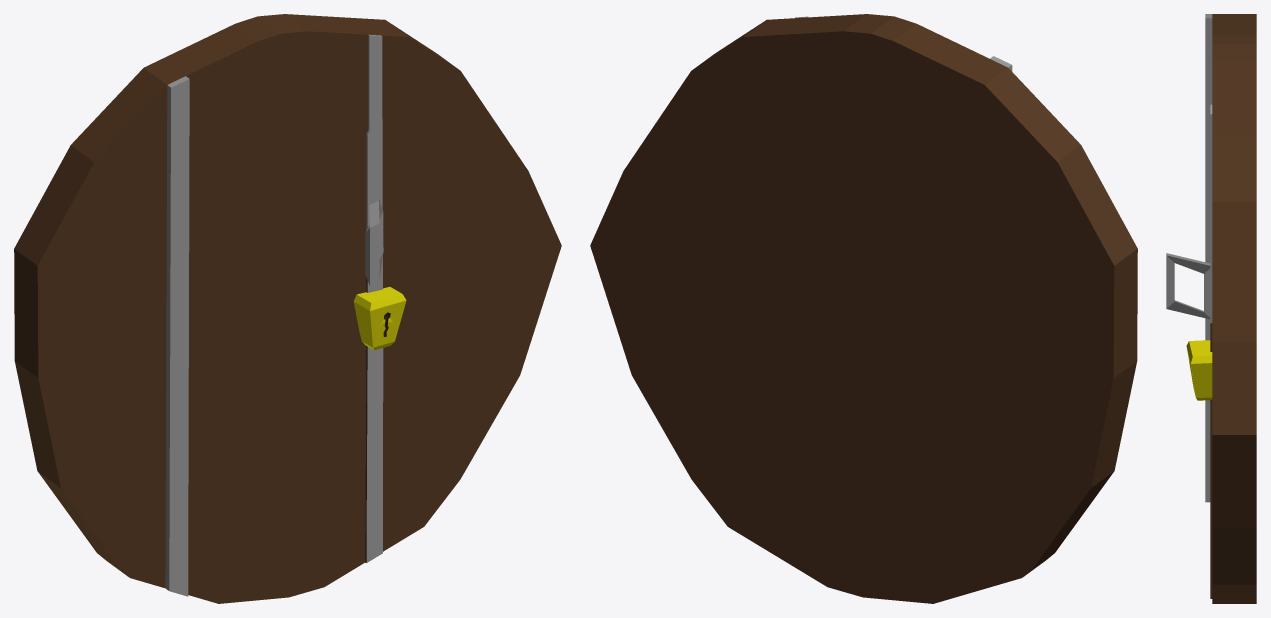
The model's file is Puertabujero..fbx.
3 renders of one model, left to right at view 1: azimuth 30°, elevation 25°; view 2: azimuth 150°, elevation 25°; view 3: azimuth 270°, elevation 25°, orthographic. The views are drawn at different scales.
Parts seen in each view (by area): view 1: PNorte.002, Cube.004; view 2: PNorte.002; view 3: PNorte.002, Cube.004.
Boxes of the visible parts, <box> form: PNorte.002: <box>14,14,561,603</box>; Cube.004: <box>353,287,406,350</box>; PNorte.002: <box>590,14,1137,603</box>; PNorte.002: <box>1166,14,1256,603</box>; Cube.004: <box>1186,340,1212,400</box>.
Size of the model in its own units: 89.79 by 92.61 by 14.31.
